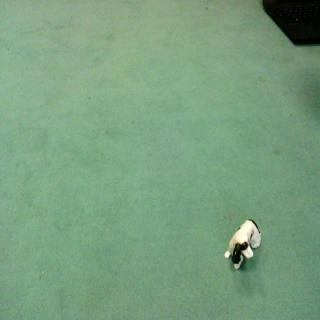dog: (222, 218, 268, 274)
